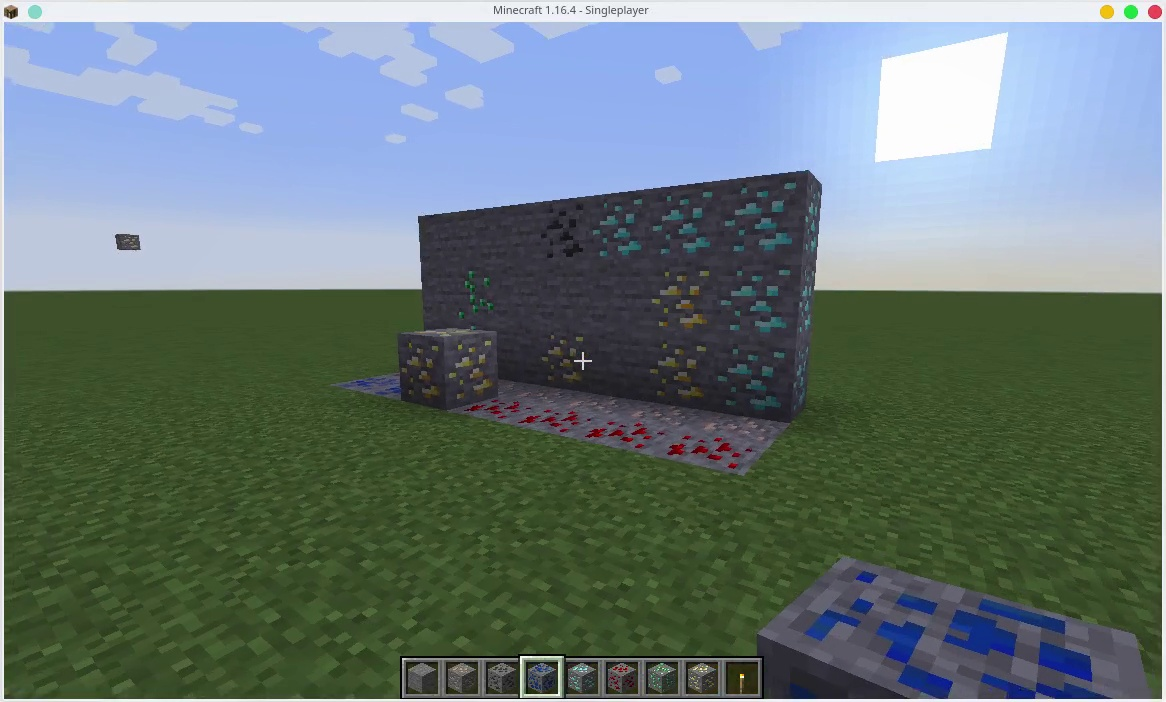gold: (401, 331, 497, 404), (645, 267, 709, 335), (645, 340, 709, 404), (532, 328, 593, 390), (683, 663, 717, 695)
